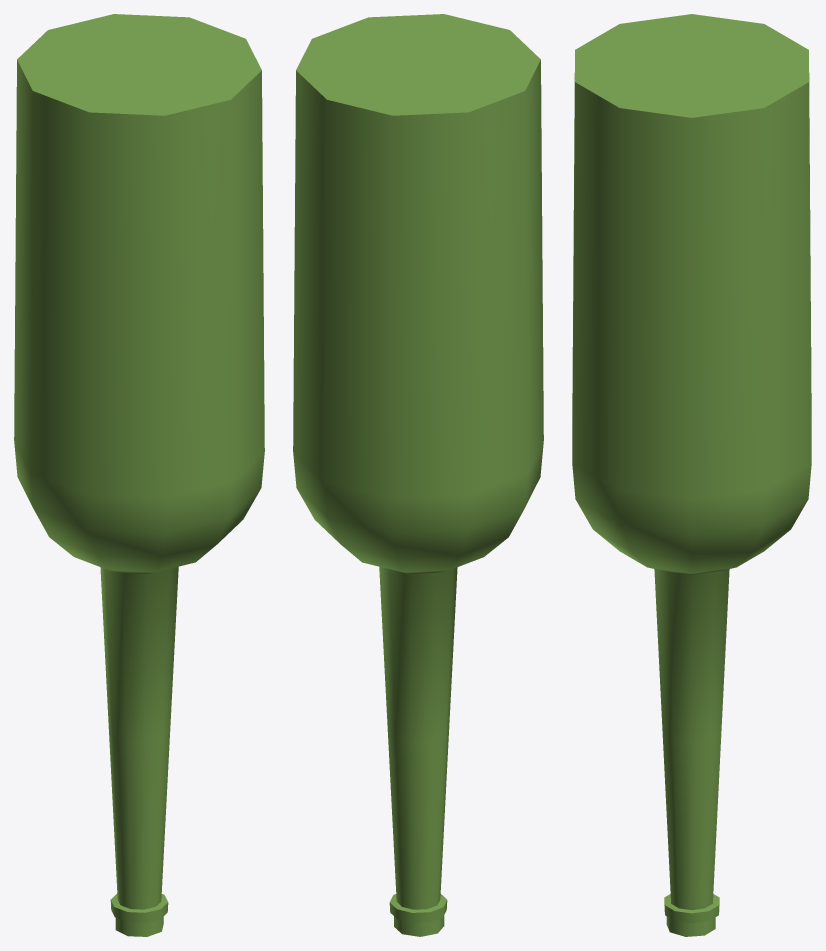
Rendered from Bottle.fbx.
3 renders of one model, left to right at view 1: azimuth 30°, elevation 25°; view 2: azimuth 150°, elevation 25°; view 3: azimuth 270°, elevation 25°, orthographic.
Visible parts, largest first — view 1: Bottle; view 2: Bottle; view 3: Bottle.
Part boxes in pixels (x1,y1,x2,y2): Bottle: (14, 14, 264, 936); Bottle: (293, 14, 543, 936); Bottle: (572, 14, 811, 936).
Bounding box in the file's own units: 16.18 × 61 × 15.38.
